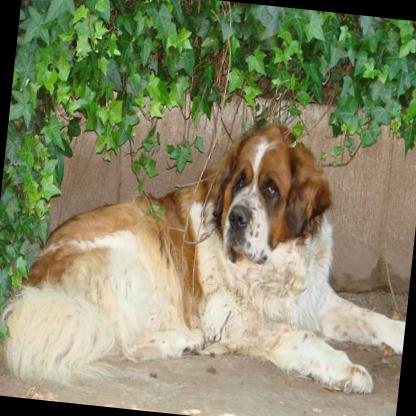Saint_Bernard: (0, 97, 416, 416)
